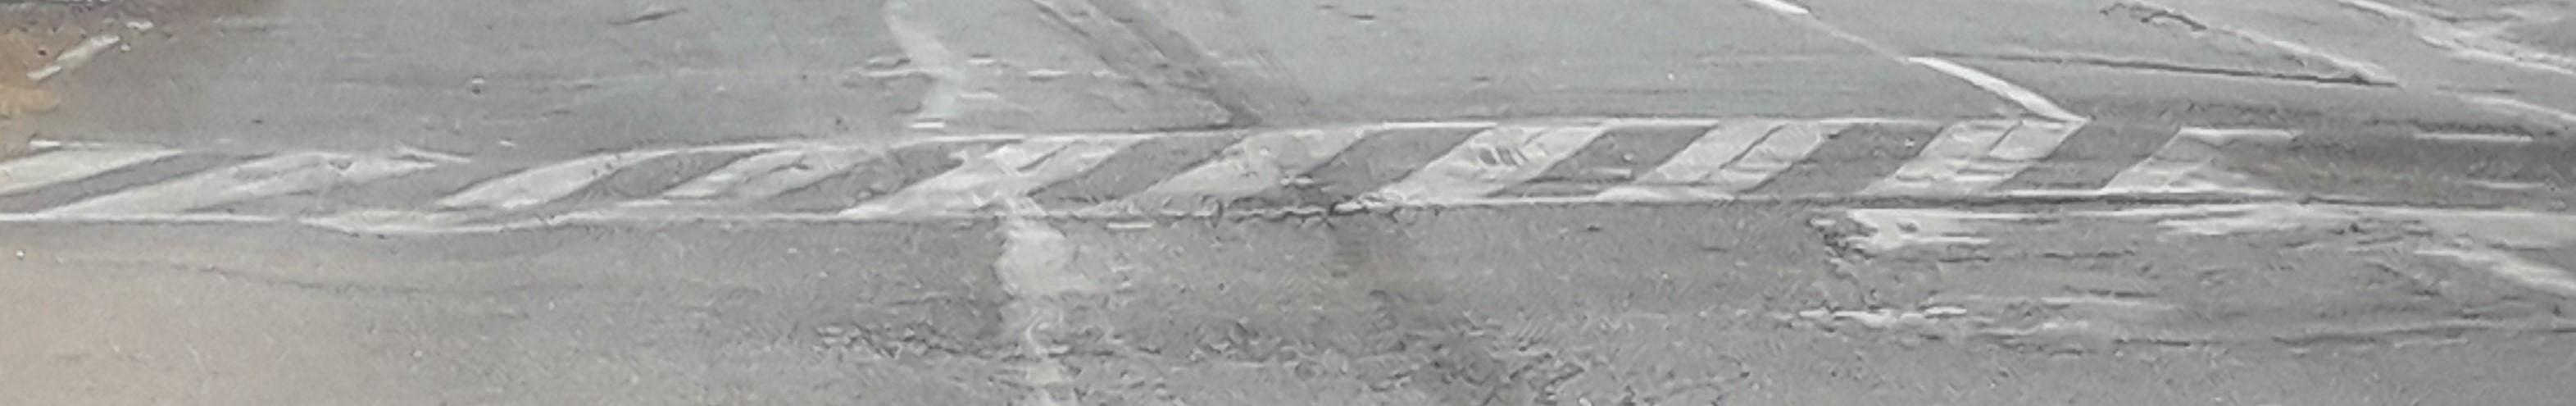speed-bump: (6, 110, 2575, 248)
